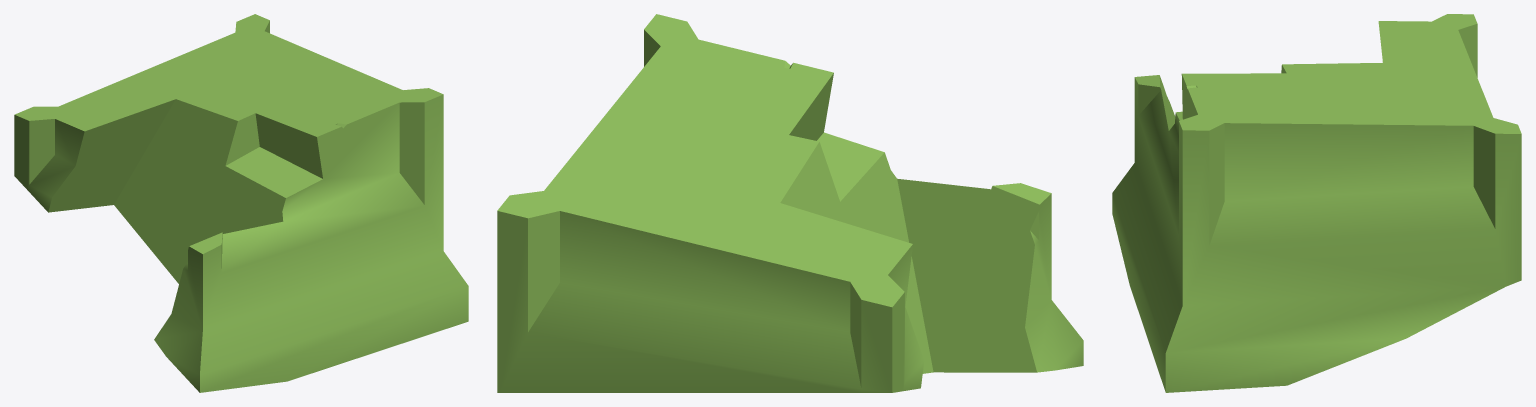
The model's file is Debris24.obj.
3 renders of one model, left to right at view 1: azimuth 30°, elevation 25°; view 2: azimuth 150°, elevation 25°; view 3: azimuth 270°, elevation 25°, orthographic. The views are drawn at different scales.
Visible parts, largest first — view 1: Debris24; view 2: Debris24; view 3: Debris24.
Part boxes in pixels (x1,y1,x2,y2): Debris24: (14, 14, 468, 392); Debris24: (497, 14, 1083, 392); Debris24: (1112, 14, 1521, 392).
Size of the model in its own units: 4.85 by 3.31 by 4.85.
